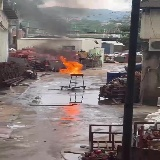fire: (59, 56, 83, 74)
